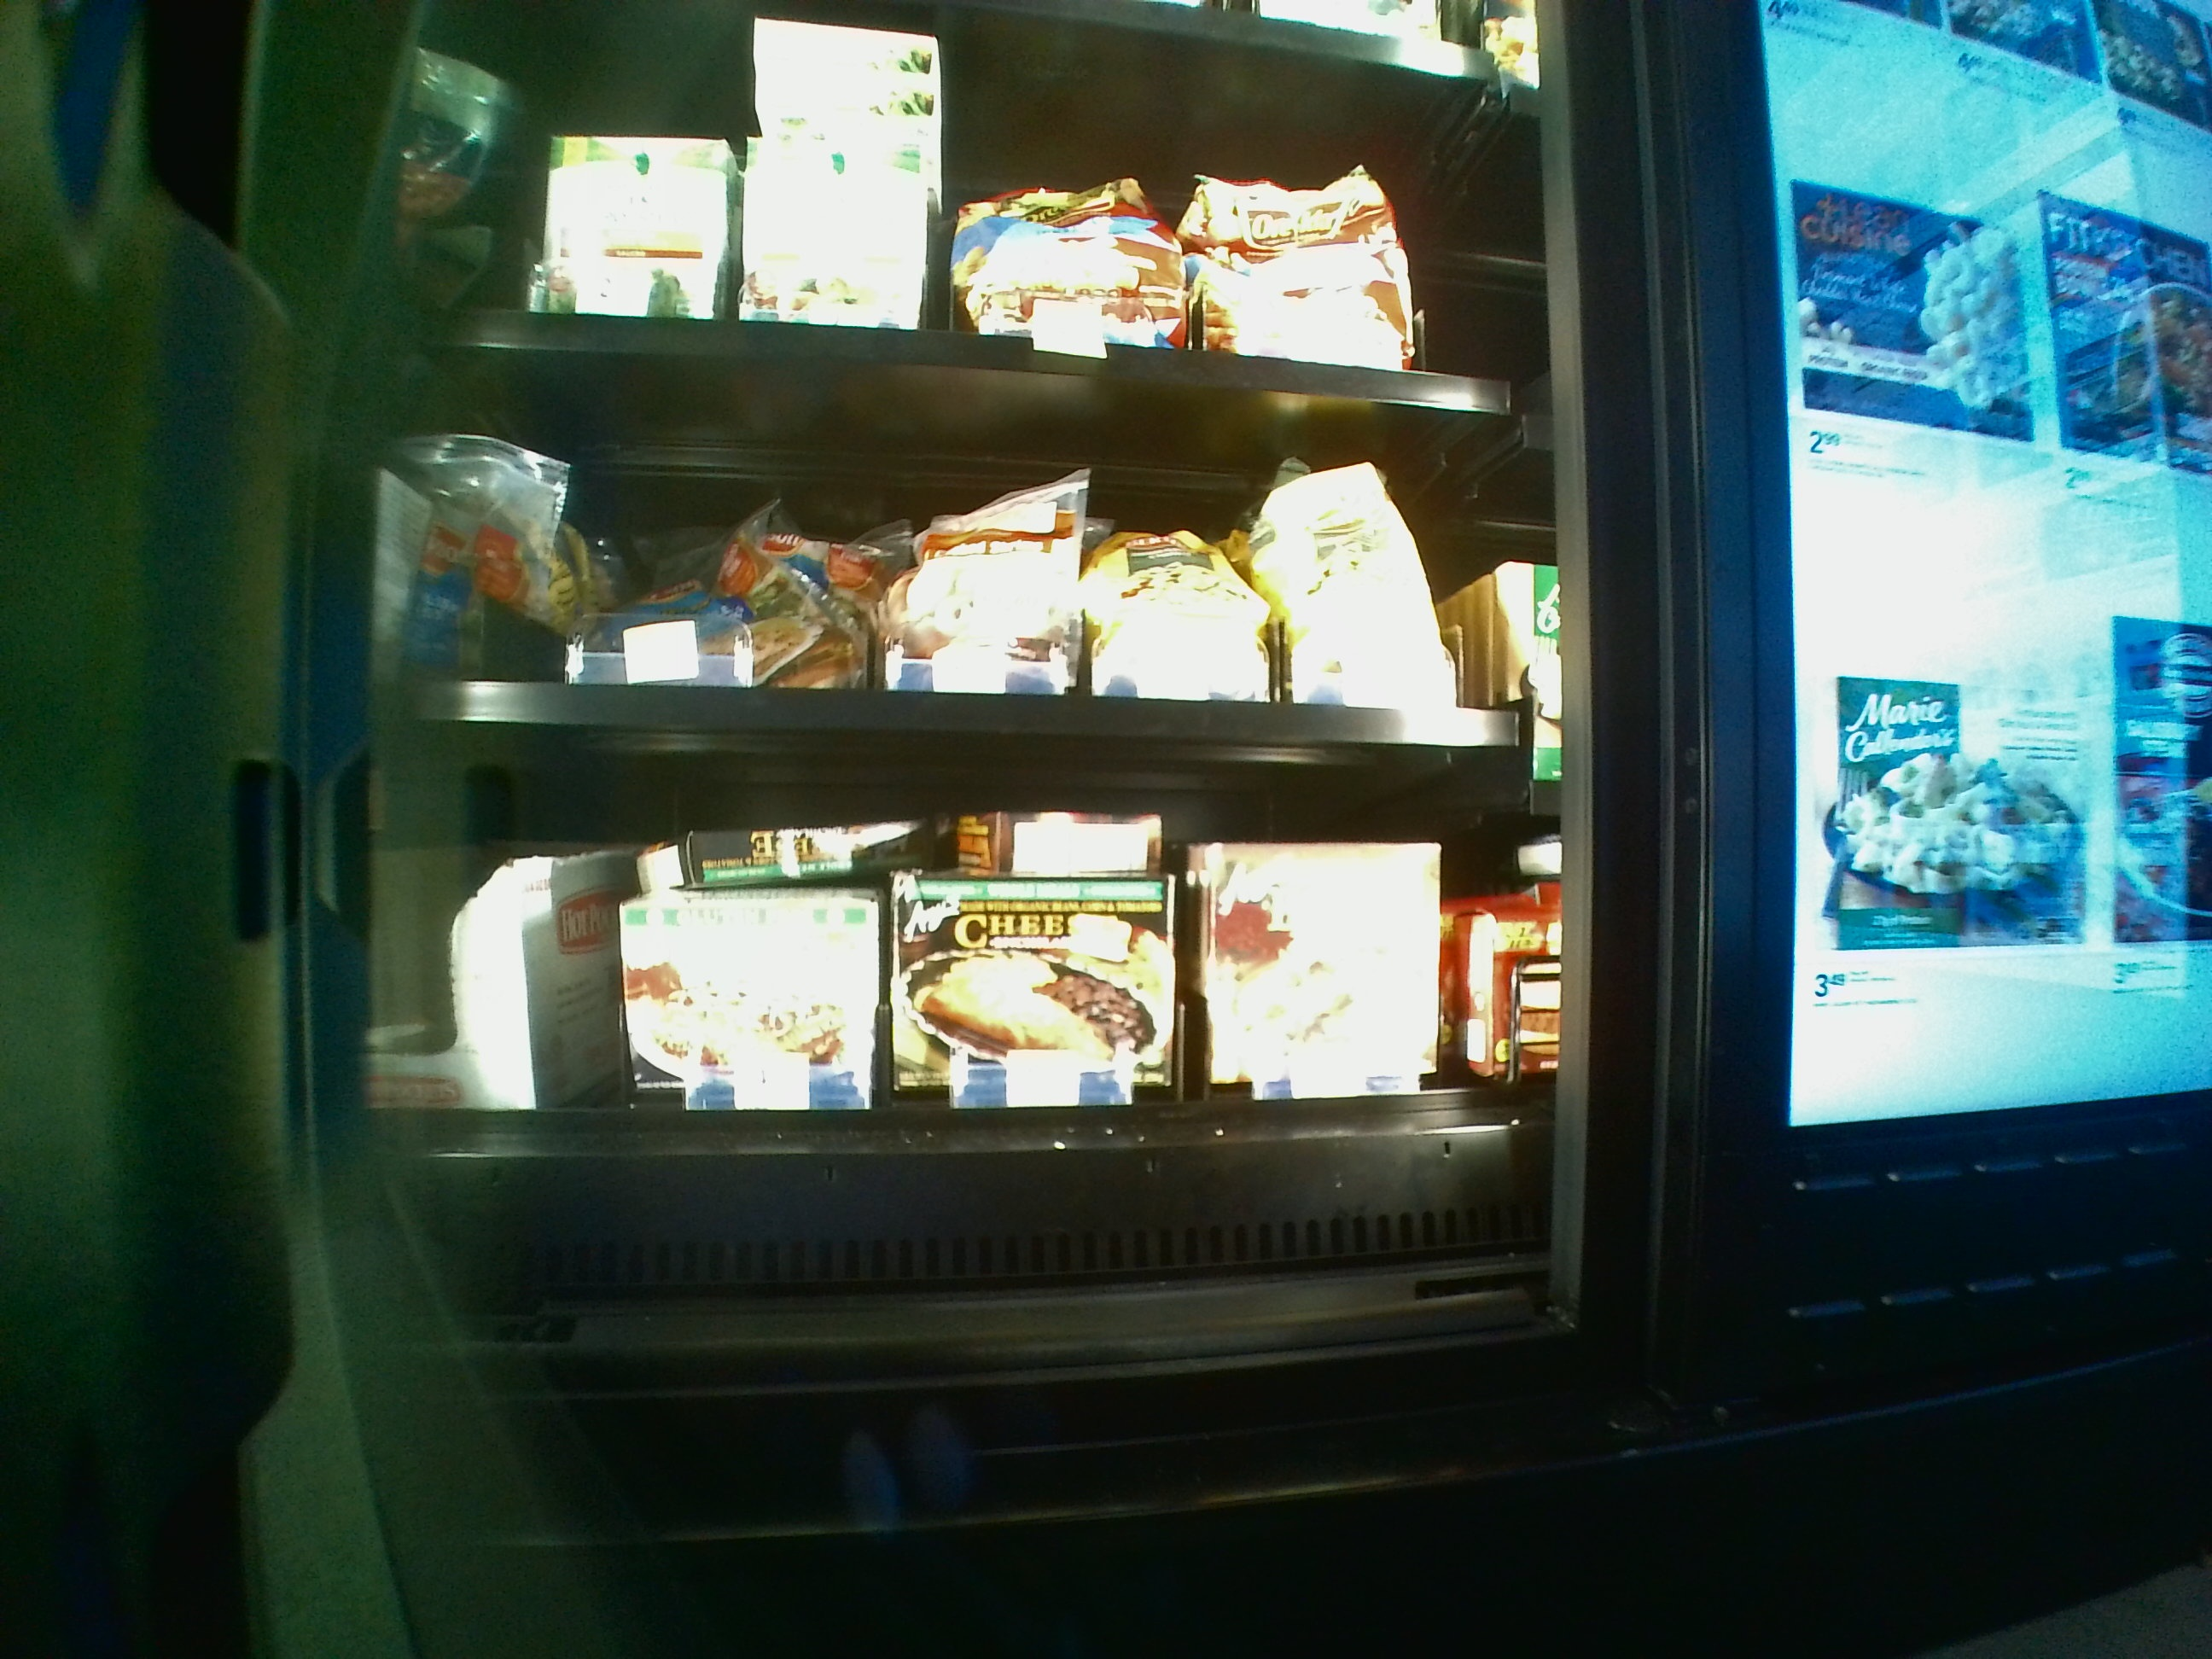shelf: (411, 763, 1554, 1314), (404, 350, 1554, 751)
